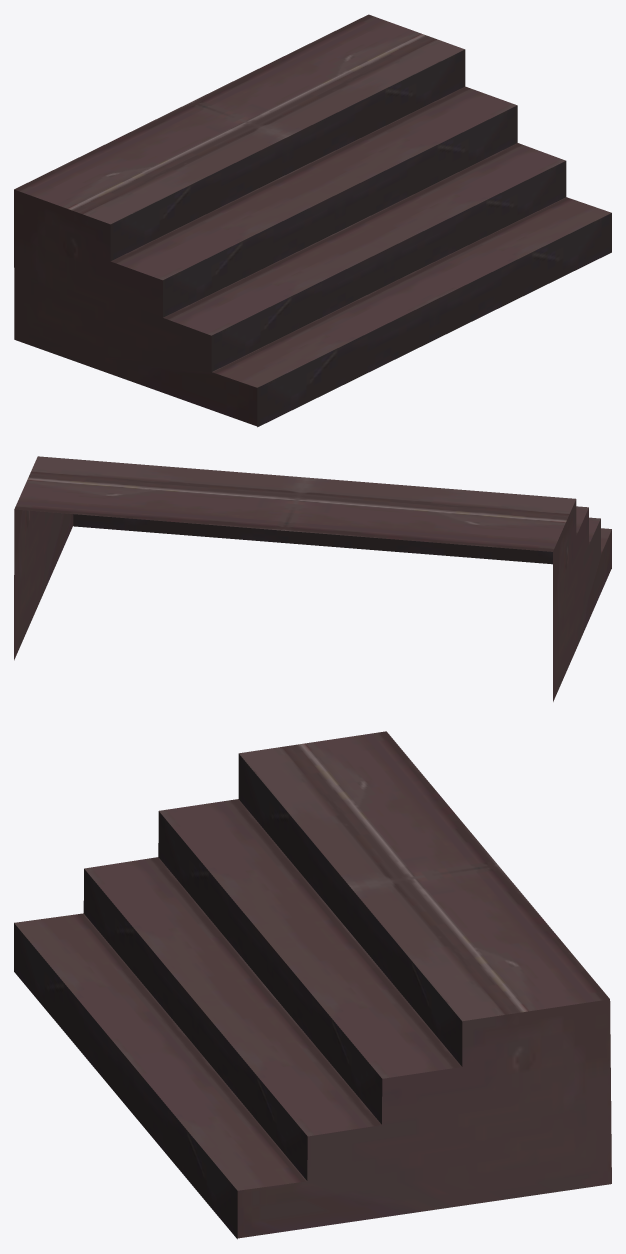
The model's file is huoshan_wujian09.fbx.
3 views of the same model, one above another, from view 1: azimuth 30°, elevation 25°; view 2: azimuth 150°, elevation 25°; view 3: azimuth 270°, elevation 25° (orthographic). The views are drawn at different scales.
Visible parts, largest first — view 1: huoshan_wujian09; view 2: huoshan_wujian09; view 3: huoshan_wujian09.
Boxes of the visible parts, x1,y1,x2,y2 form: huoshan_wujian09: (14, 14, 611, 427); huoshan_wujian09: (14, 456, 611, 701); huoshan_wujian09: (14, 731, 611, 1239).
Bounding box in the file's own units: 13.54 × 3.61 × 10.58.
